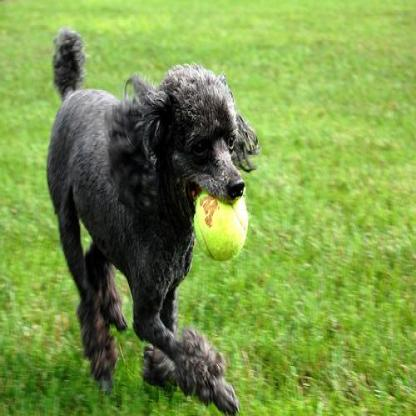toy_poodle: (45, 25, 258, 411)
